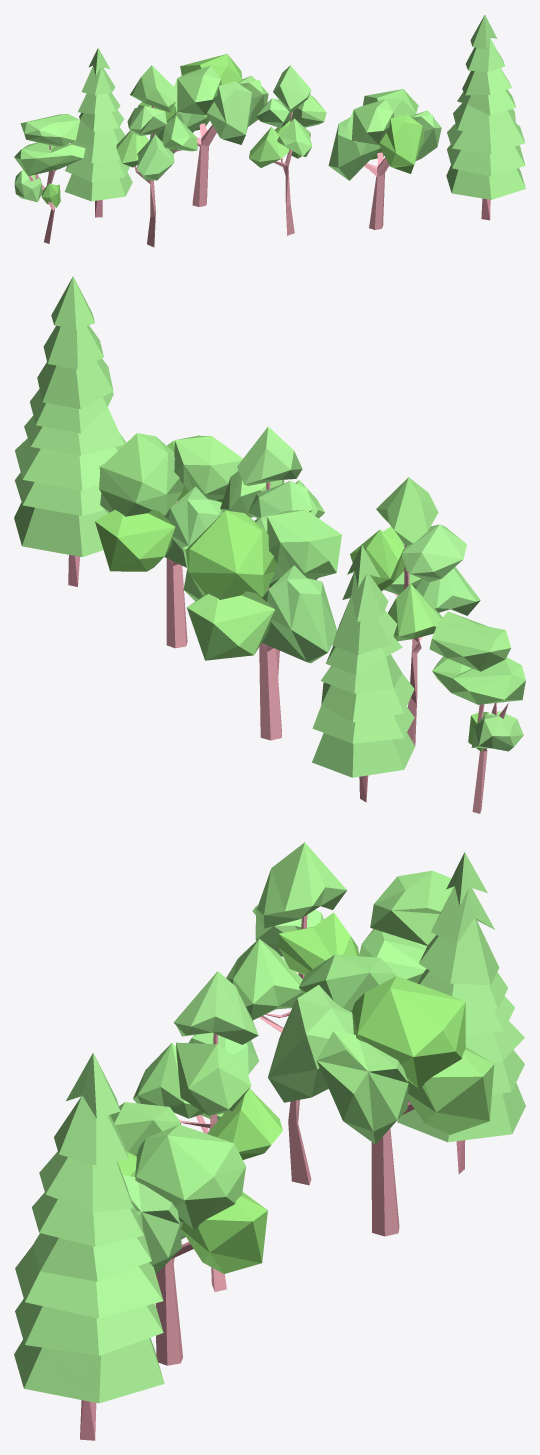
The model's file is ForestSide2.fbx.
3 views of the same model, one above another, from view 1: azimuth 30°, elevation 25°; view 2: azimuth 150°, elevation 25°; view 3: azimuth 270°, elevation 25° (orthographic). The views are drawn at different scales.
Visible parts, largest first — view 1: Forest.002; view 2: Forest.002; view 3: Forest.002.
Part boxes in pixels (x1=…): Forest.002: x1=14, y1=15, x2=525, y2=247; Forest.002: x1=14, y1=276, x2=525, y2=813; Forest.002: x1=14, y1=842, x2=525, y2=1440.
Bounding box in the file's own units: 767 × 360 × 430.
